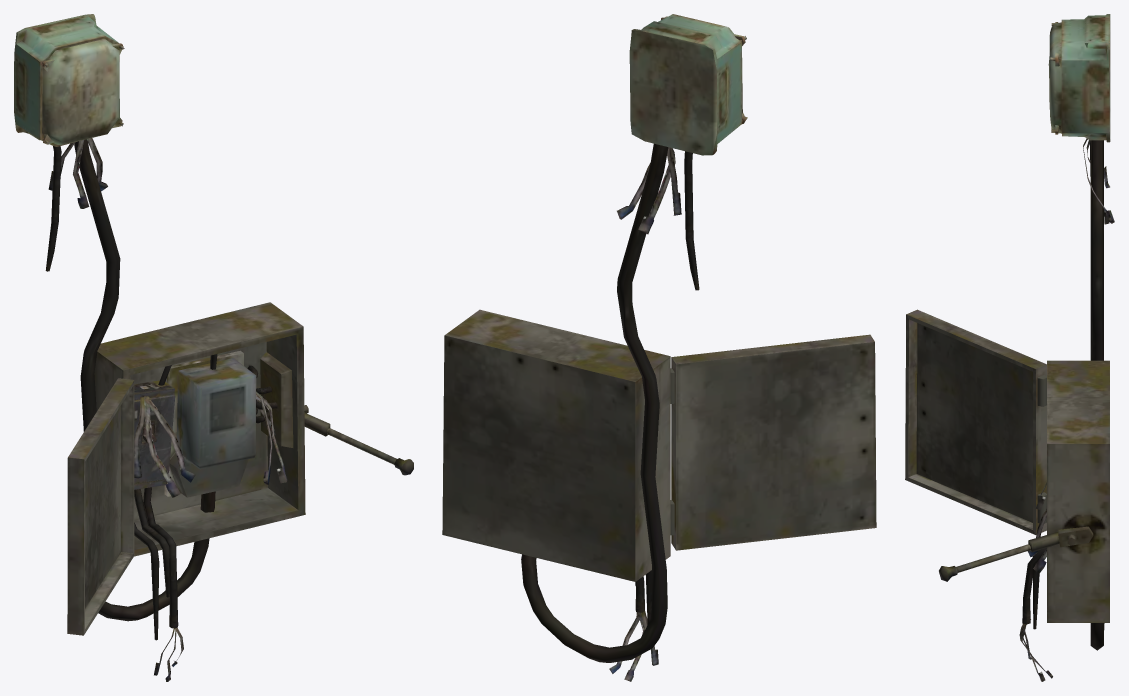
The model's file is jungle_powerbox_c.glb.
The picture shows the model from 3 angles, left to right: view 1: azimuth 30°, elevation 25°; view 2: azimuth 150°, elevation 25°; view 3: azimuth 270°, elevation 25°; orthographic projection. The views are drawn at different scales.
Parts seen in each view (by area): view 1: jungle_powerbox_c; view 2: jungle_powerbox_c; view 3: jungle_powerbox_c.
Part boxes in pixels (x1,y1,x2,y2): jungle_powerbox_c: (14,14,413,681); jungle_powerbox_c: (442,14,876,681); jungle_powerbox_c: (905,14,1114,681).
Bounding box in the file's own units: 0.7977 × 1.38 × 0.4238.
1 material, 1 textured.
